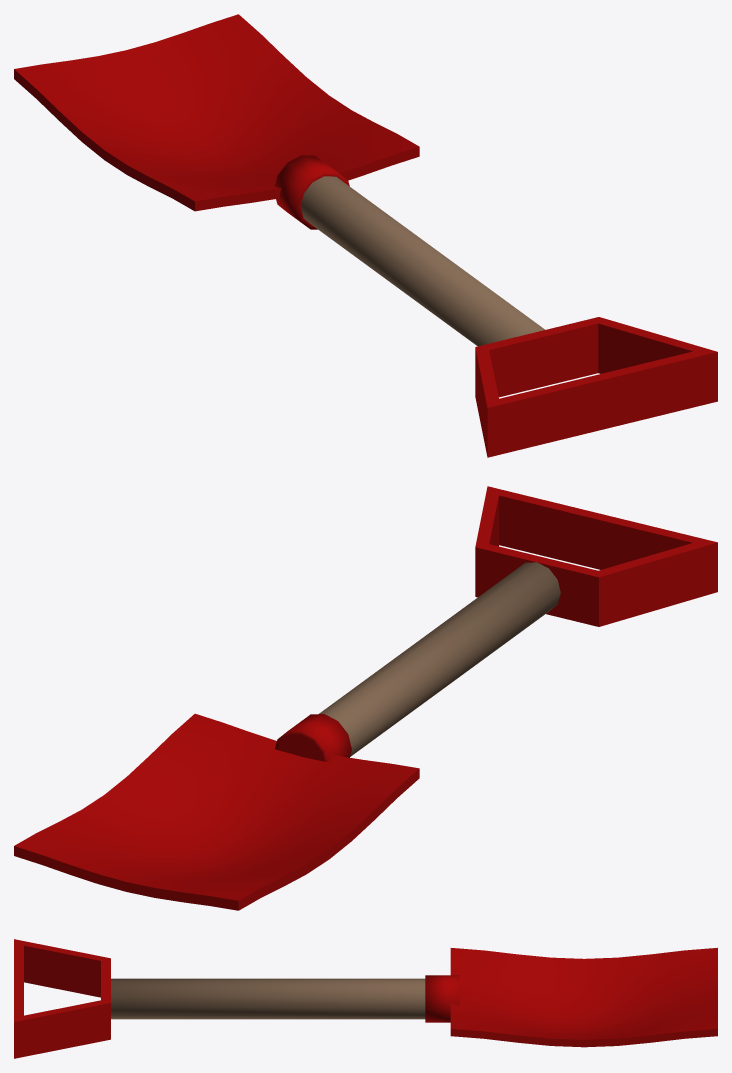
The model's file is Scheprood2.fbx.
3 views of the same model, one above another, from view 1: azimuth 30°, elevation 25°; view 2: azimuth 150°, elevation 25°; view 3: azimuth 270°, elevation 25° (orthographic). The views are drawn at different scales.
Visible parts, largest first — view 1: Plane.001; view 2: Plane.001; view 3: Plane.001.
Part boxes in pixels (x1,y1,x2,y2): Plane.001: (14, 14, 717, 457); Plane.001: (14, 486, 717, 910); Plane.001: (14, 939, 717, 1058).
Size of the model in its own units: 0.1238 by 0.0368 by 0.4431.
